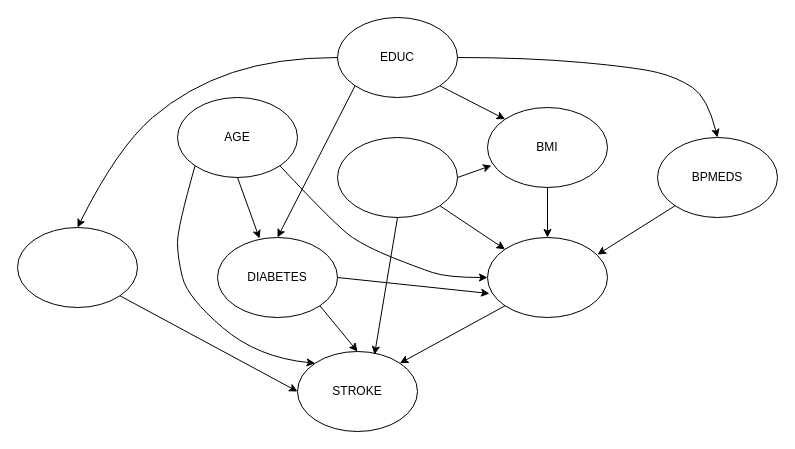
Some shapes in this 795 by 449 pixel diagram are drawn without their labels. Each missing label, with the centre of its shape:
"CURSMOKE" belongs at [77,267].
"HYPERTEN" belongs at [547,277].
"SEX" belongs at [397,177].
